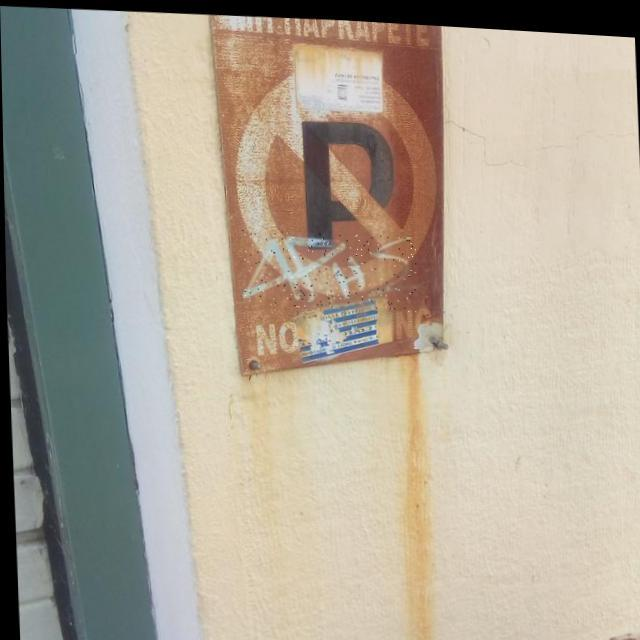-: (239, 223, 416, 310)
